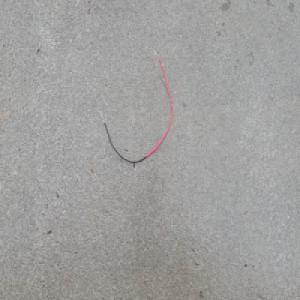Wire: (98, 47, 174, 166)
